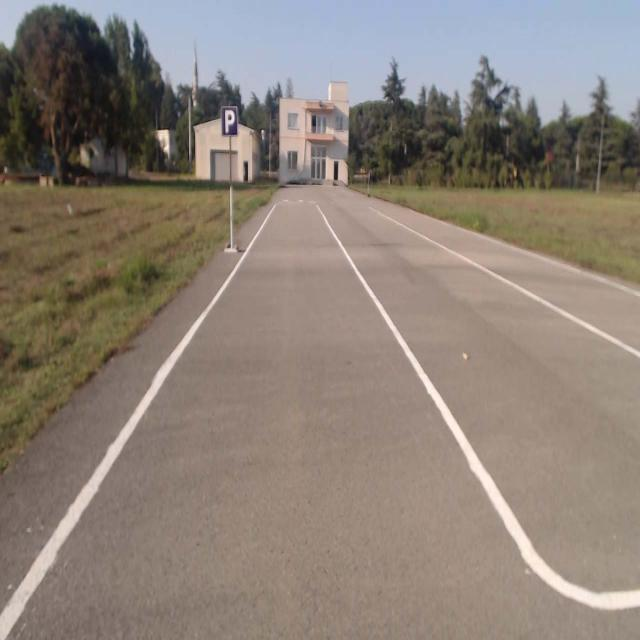park: (220, 106, 238, 136)
